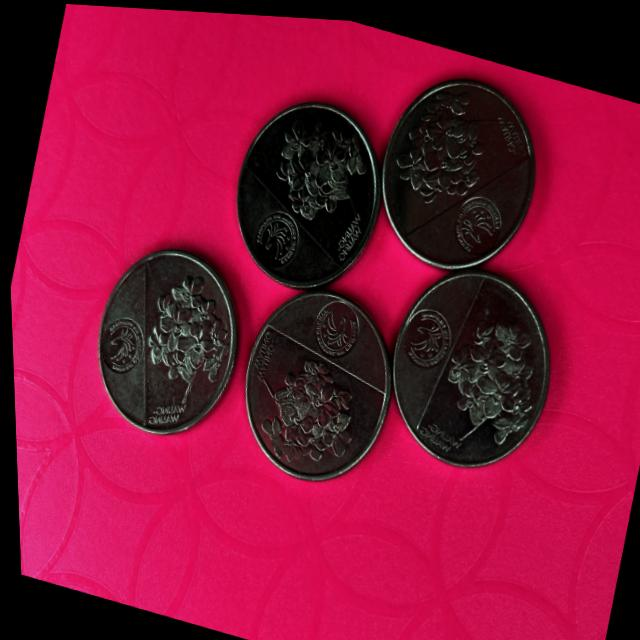1_New_Back: (248, 333, 374, 482), (127, 259, 244, 410), (258, 94, 381, 237), (439, 291, 553, 445), (396, 61, 503, 202)
